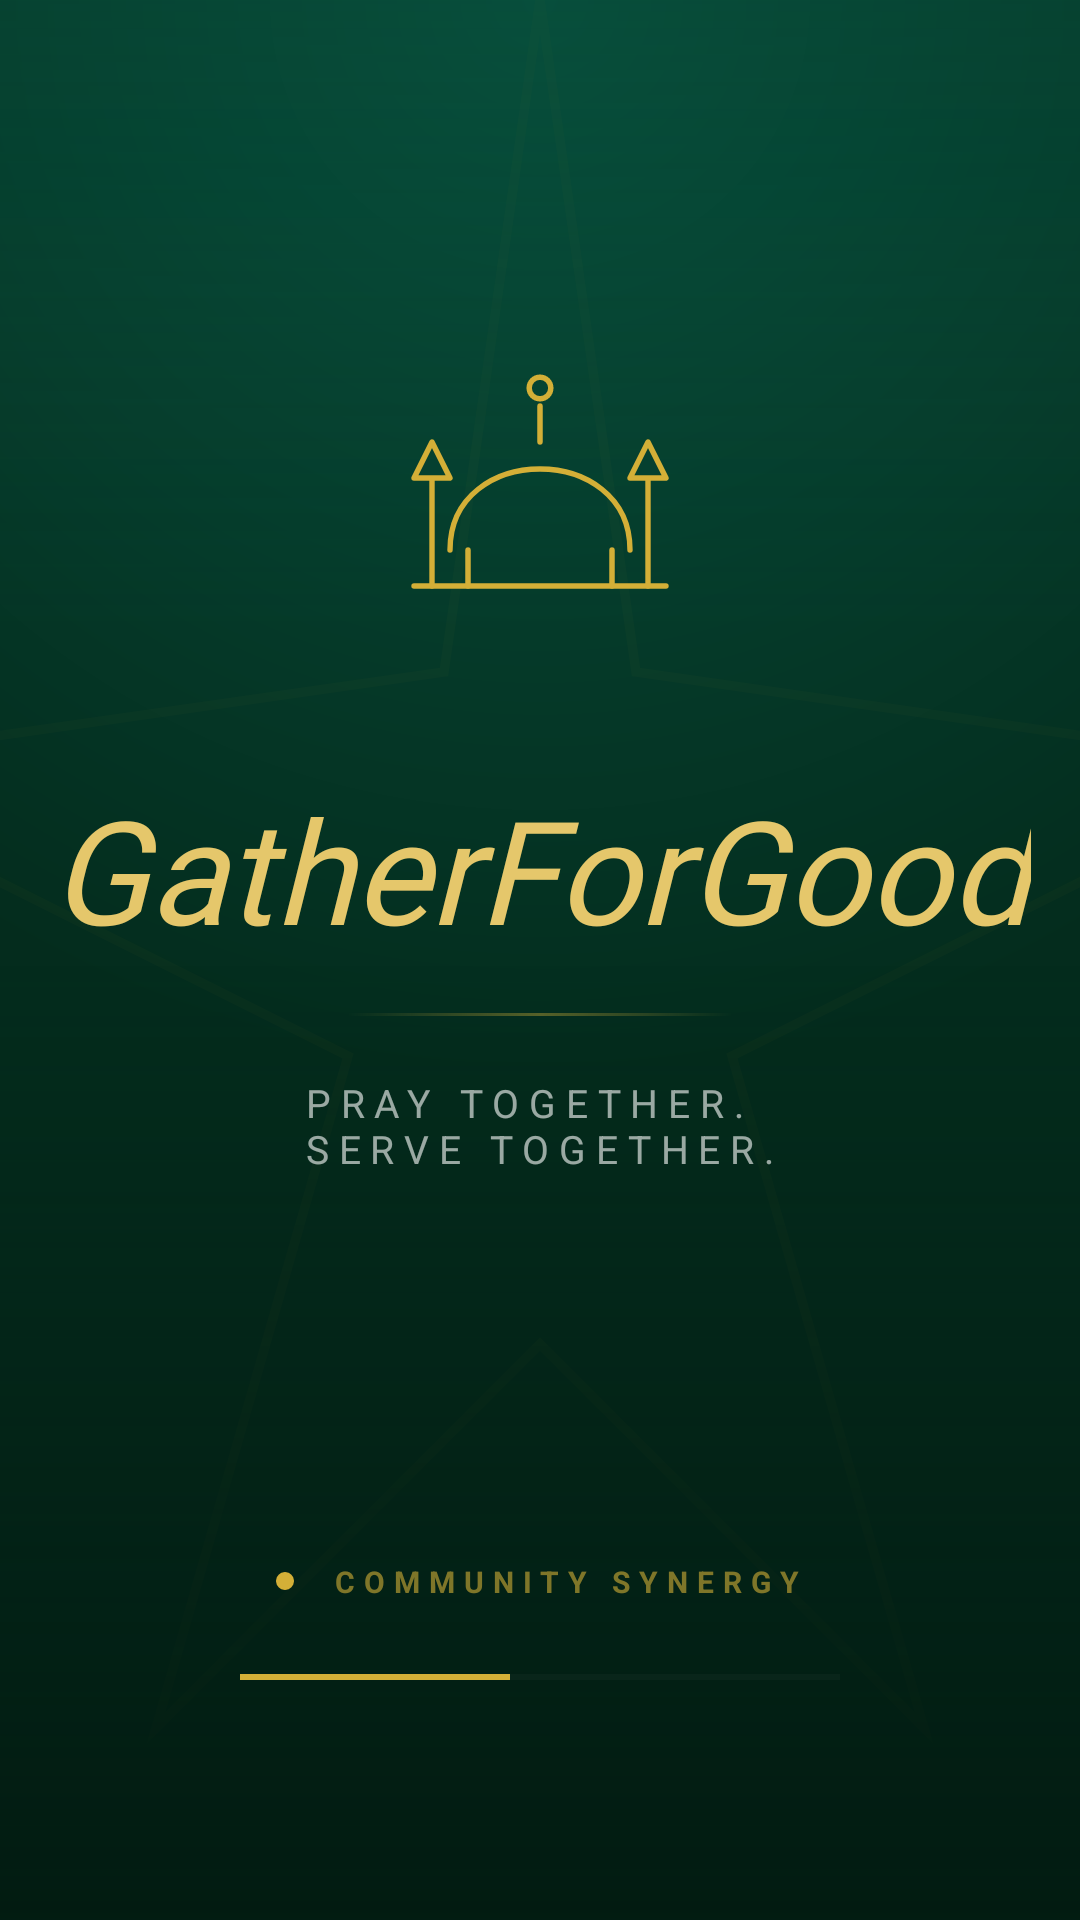

Icons on this 1080 x 1920 Android screen, each with its box as (x1, y1, x2, y2):
mosque line: (411, 374, 669, 589)
